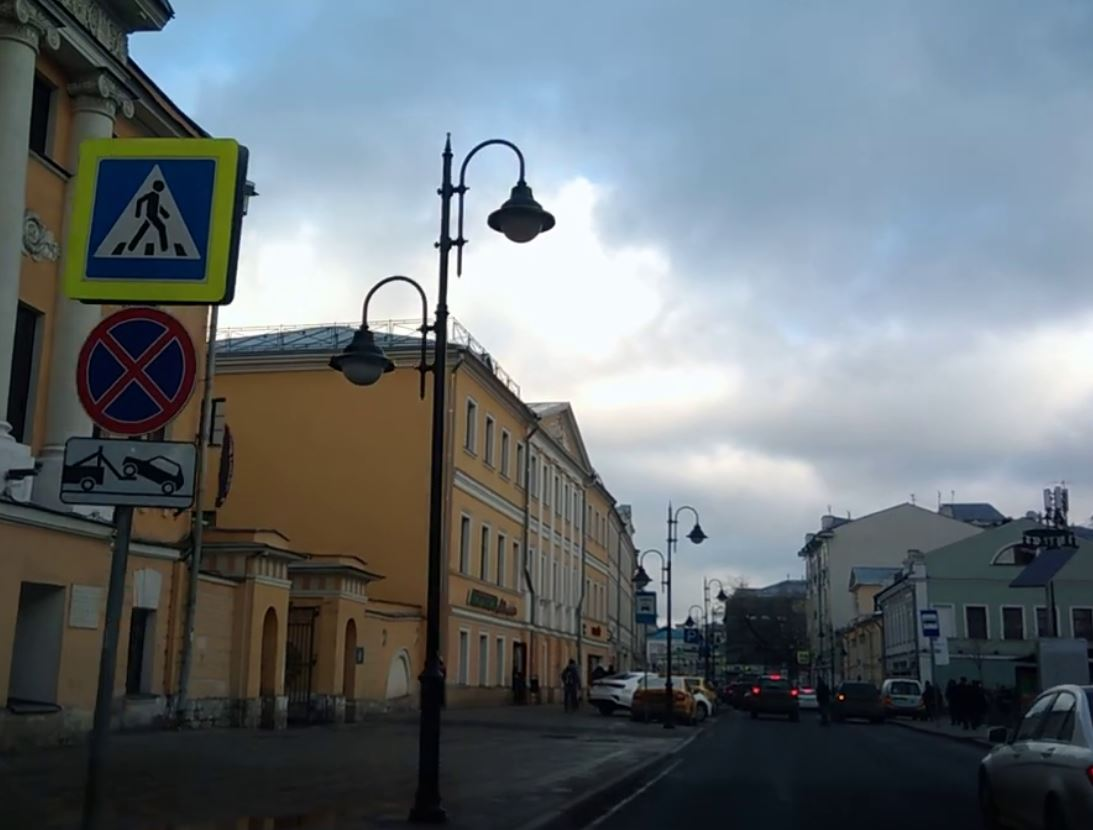Yaya Gecidi: (89, 155, 208, 290)
